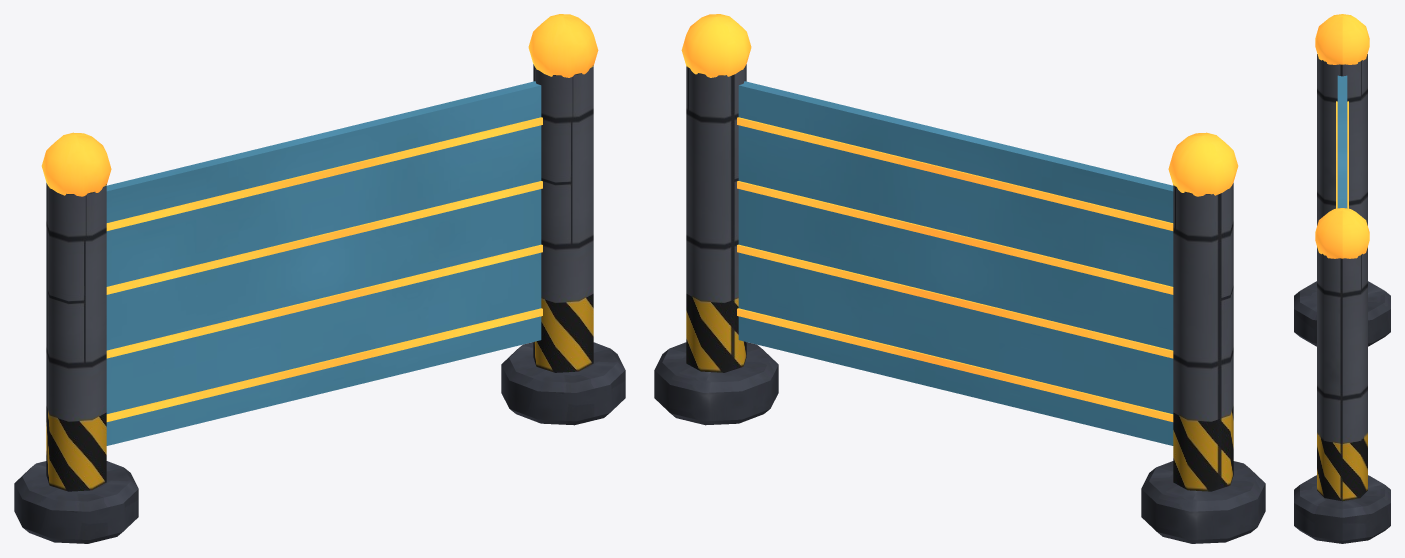
The model's file is sf_lanebarricade.glb.
3 renders of one model, left to right at view 1: azimuth 30°, elevation 25°; view 2: azimuth 150°, elevation 25°; view 3: azimuth 270°, elevation 25°, orthographic. The views are drawn at different scales.
Visible parts, largest first — view 1: Turret, Base; view 2: Turret, Base; view 3: Base, Turret.
Boxes of the visible parts, x1=… form: Turret: x1=106, y1=81, x2=542, y2=445; Base: x1=14, y1=14, x2=625, y2=543; Turret: x1=737, y1=81, x2=1173, y2=445; Base: x1=654, y1=14, x2=1265, y2=543; Base: x1=1294, y1=14, x2=1390, y2=543; Turret: x1=1336, y1=75, x2=1348, y2=208.
Size of the model in its own units: 0.88 by 0.545 by 0.1522.
4 materials, 4 textured.
